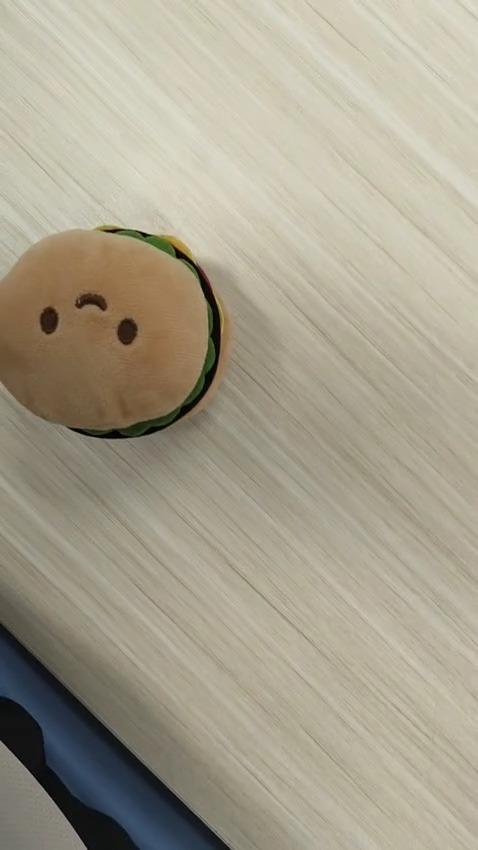hamburger: (1, 206, 228, 445)
